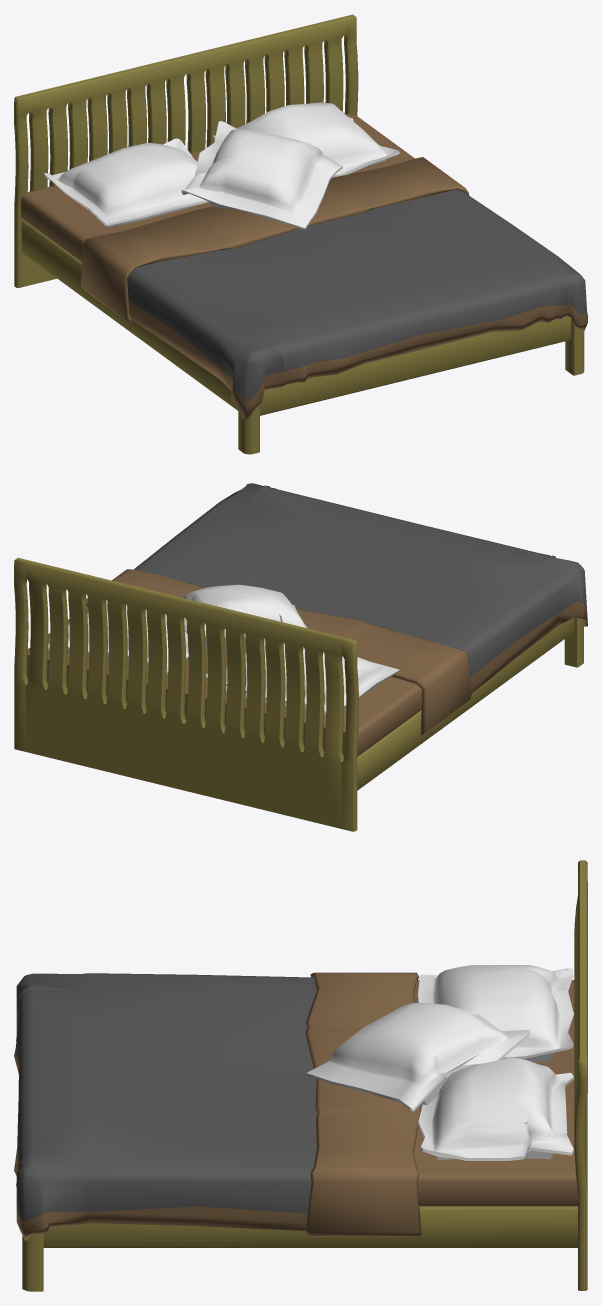
Rendered from LBBD9456.FBX.
3 renders of one model, top to bottom at view 1: azimuth 30°, elevation 25°; view 2: azimuth 150°, elevation 25°; view 3: azimuth 270°, elevation 25°, orthographic. The views are drawn at different scales.
Visible parts, largest first — view 1: LBBD9456; view 2: LBBD9456; view 3: LBBD9456.
Boxes of the visible parts, box(x1,y1,x2,y2) form: LBBD9456: box(14, 14, 587, 454); LBBD9456: box(14, 483, 587, 831); LBBD9456: box(14, 860, 587, 1291).
Size of the model in its own units: 191 by 221 by 97.45.
